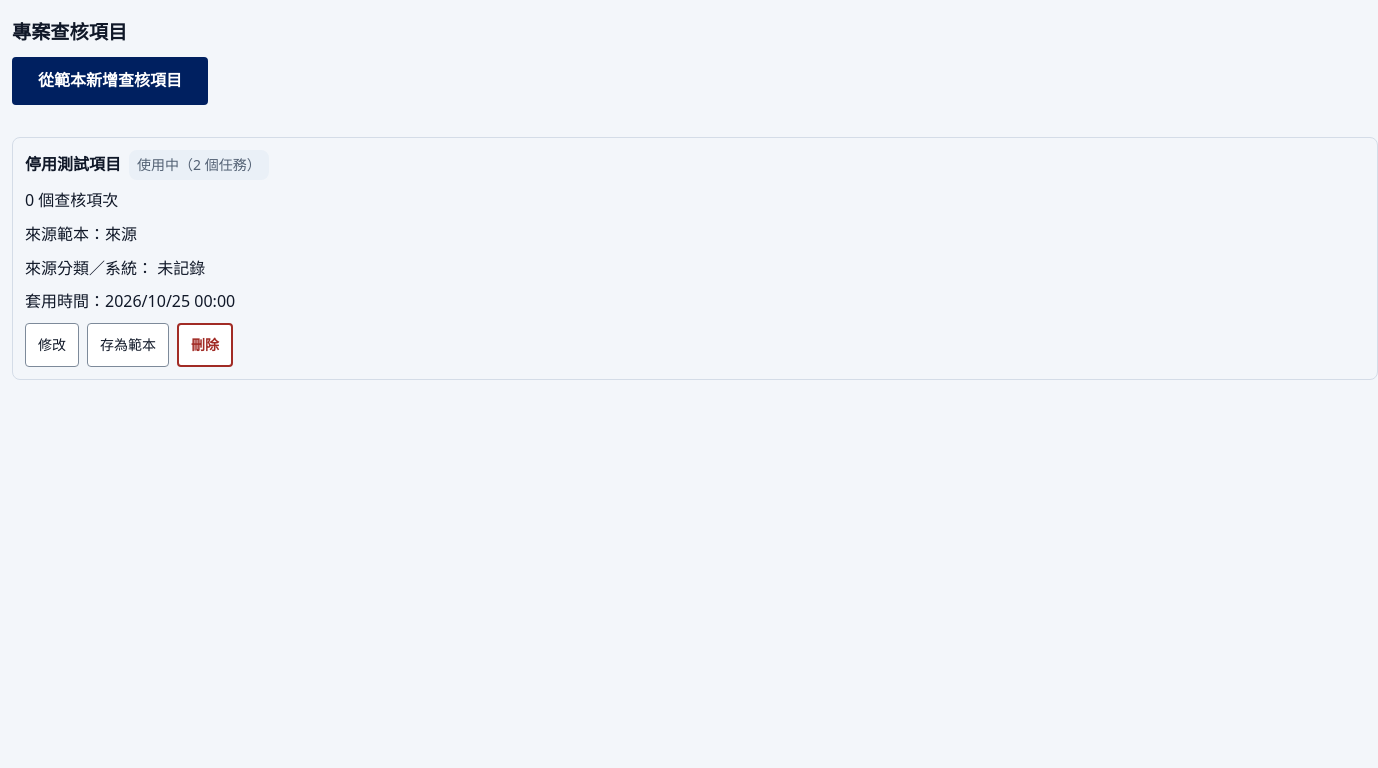
Test case: IP-AC23：停用與恢復 › 停用失敗留在確認區顯示錯誤，項目仍在啟用清單
Step 1. Click the button "刪除" → (205, 345), box [177,323,233,367]
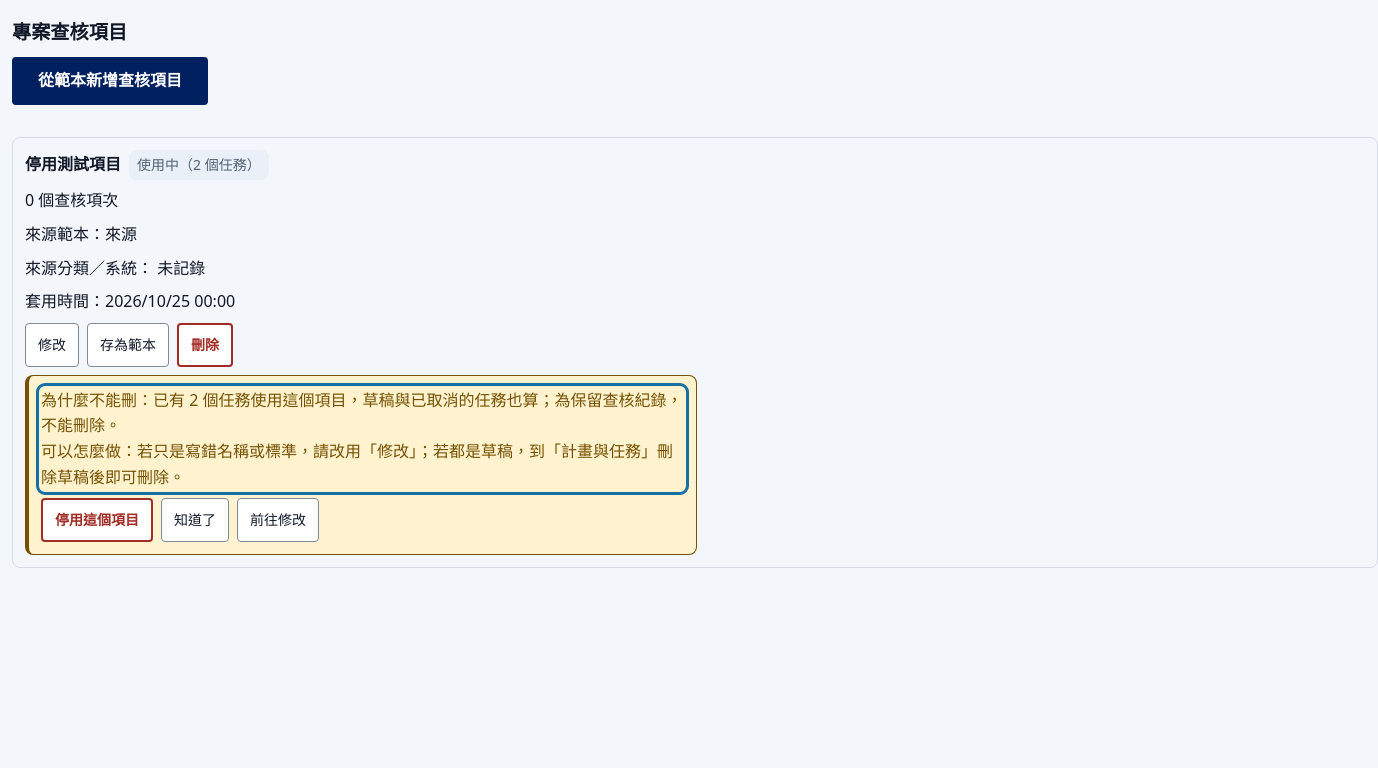
Step 2. Click the button "停用這個項目" → (97, 520), box [41,498,153,542]
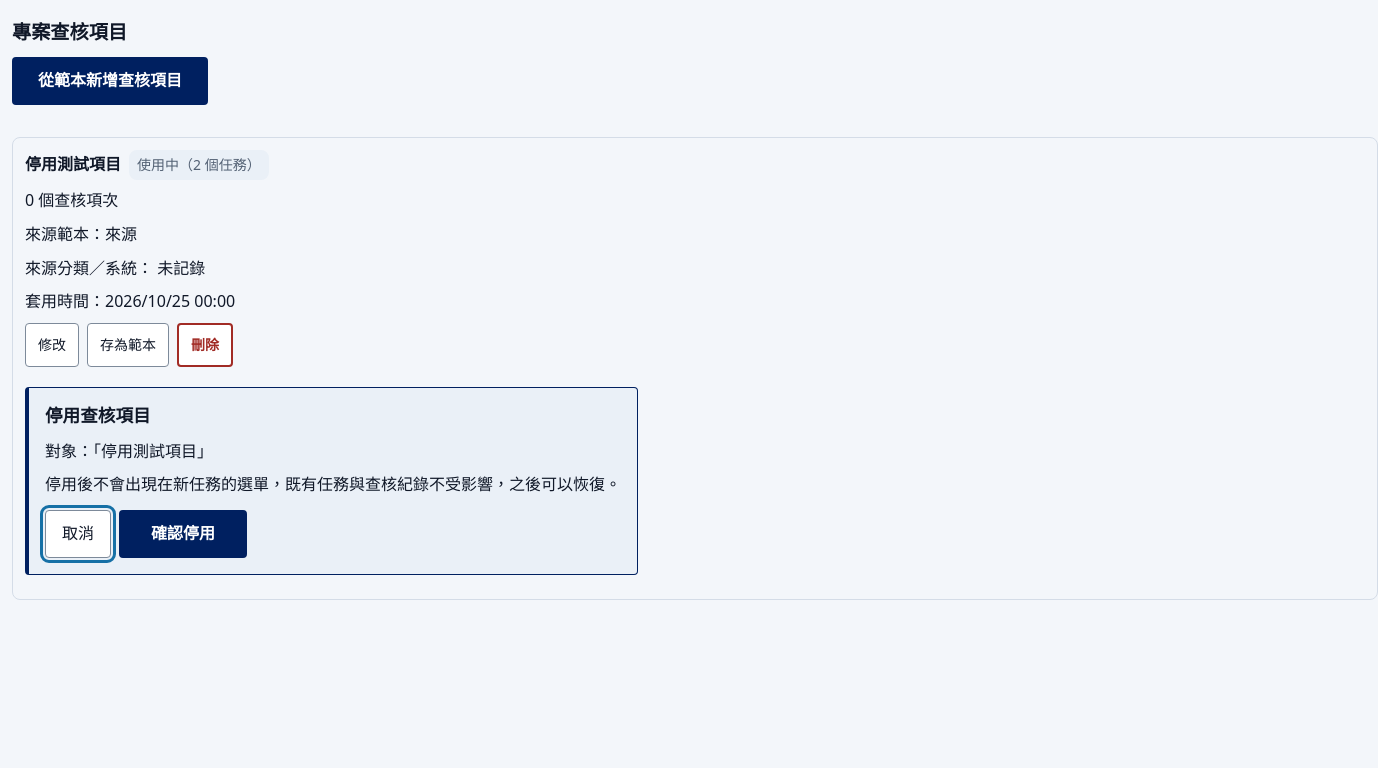
Step 3. Click the button "確認停用" → (183, 534), box [119,510,247,558]
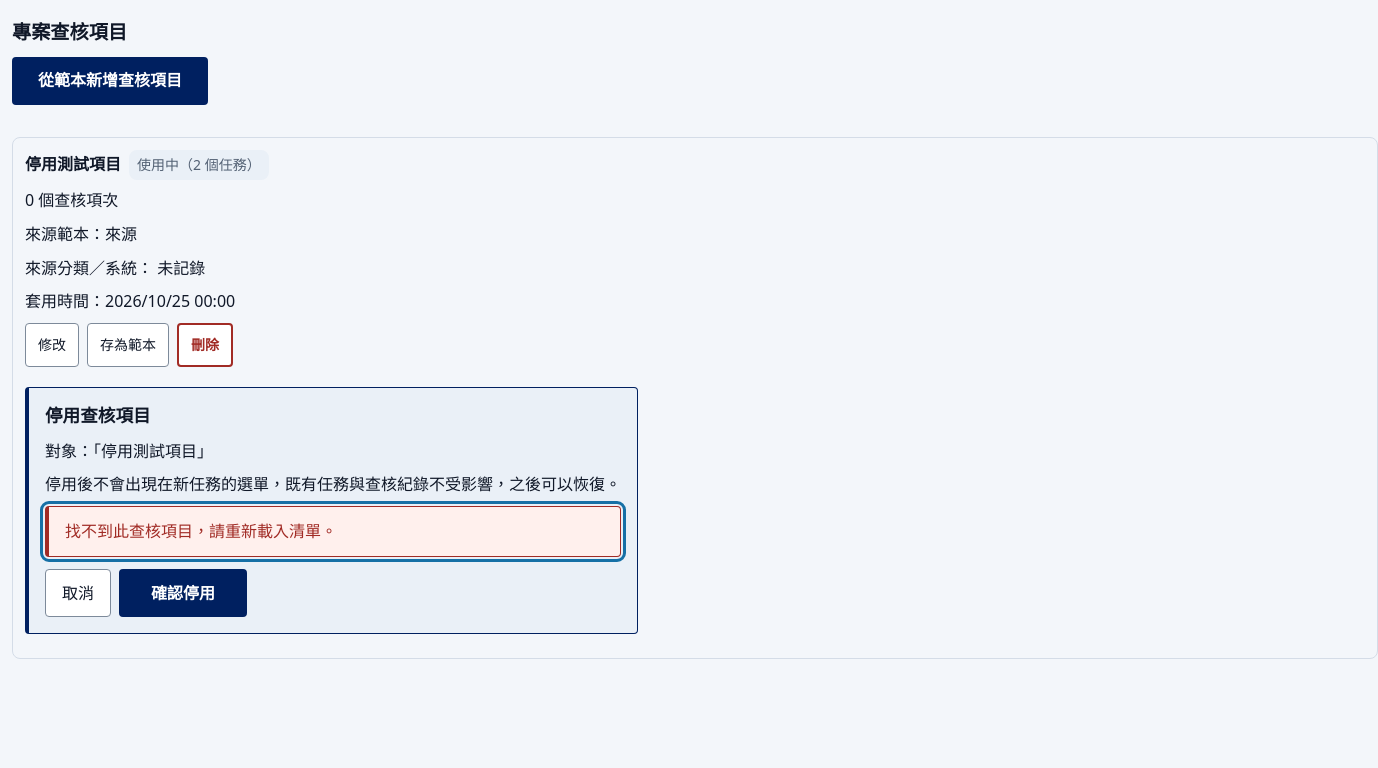
Now the message shows "找不到此查核項目", box [65,520,337,542]
